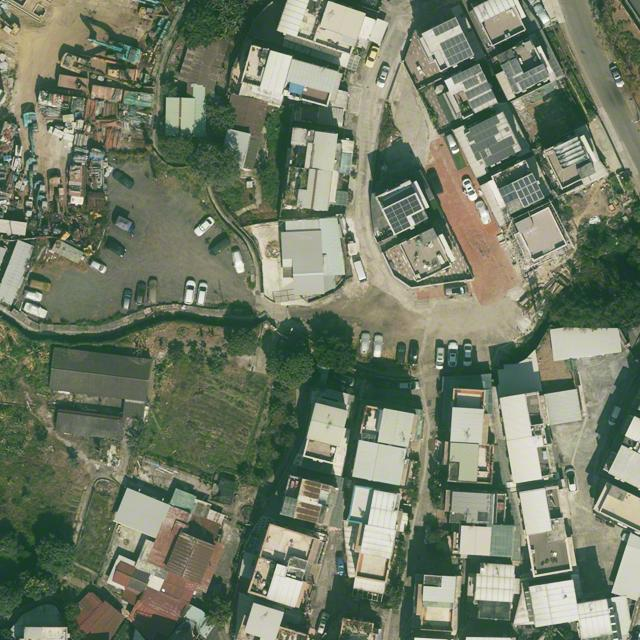SolarPanel: (440, 33, 474, 66), (512, 174, 545, 207), (384, 202, 412, 234), (484, 145, 516, 167), (451, 64, 483, 85), (470, 115, 500, 136), (399, 194, 423, 217), (470, 135, 497, 154), (488, 136, 515, 155), (433, 17, 459, 36), (470, 91, 496, 109), (466, 82, 491, 100), (474, 125, 499, 143), (499, 184, 518, 204), (462, 77, 480, 90), (466, 132, 476, 142), (478, 73, 487, 83), (474, 151, 482, 161), (480, 149, 488, 159)
